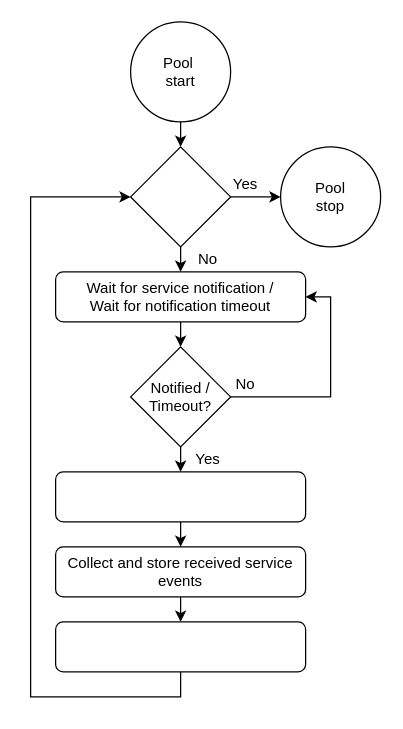
Some shapes in this 403 by 729 pixel diagram are drawn without their labels. The shapes that lost their labels are listed below. From the top down, each one's centre as x and y in pixels, then its label:
At (180,196): "Stop pool?".
At (180,496): "Check service status".
At (180,646): "Distribute stored send events to services".
